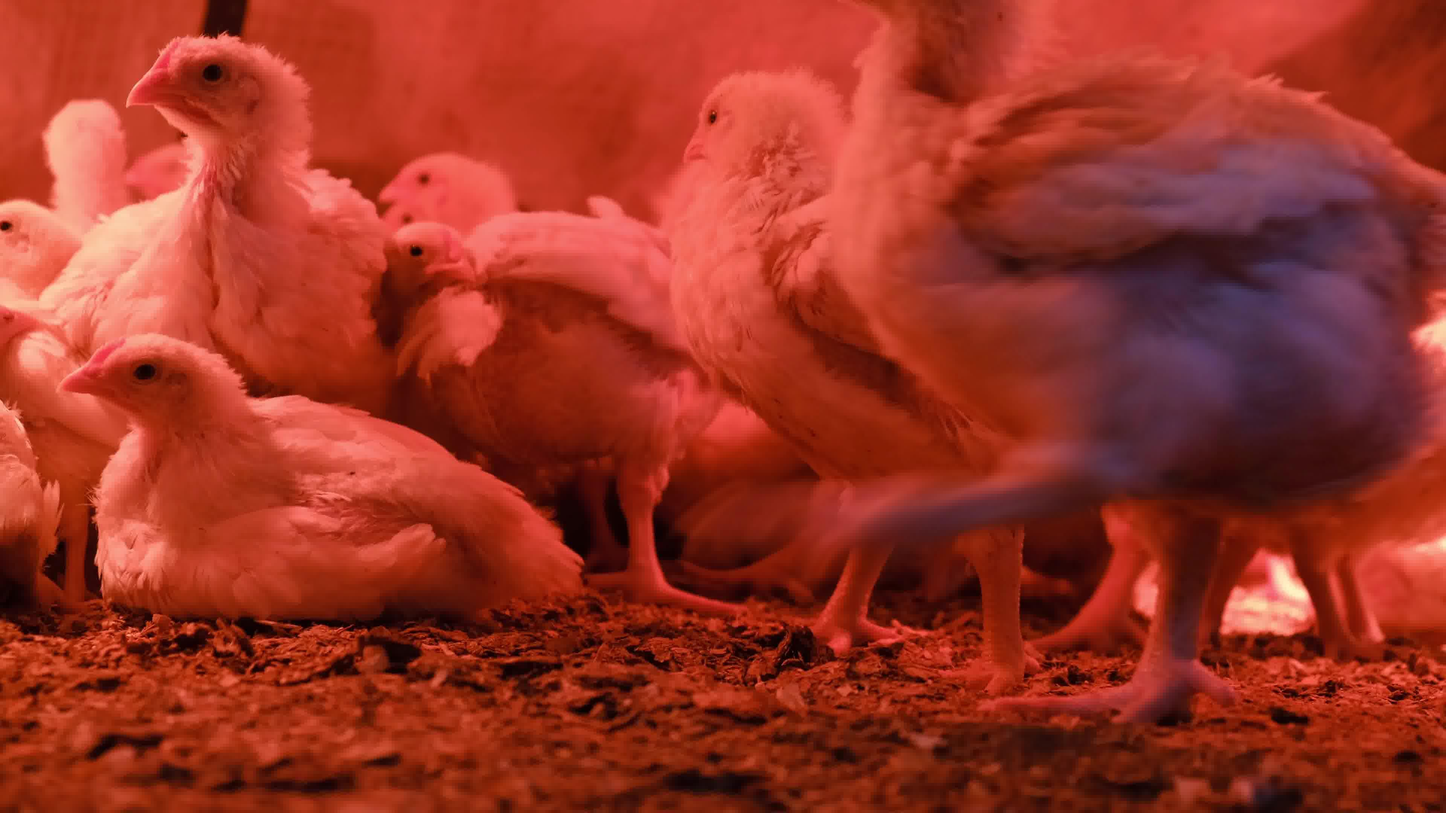AbNormal: (60, 311, 567, 662), (0, 237, 92, 646)
Normal: (795, 0, 1442, 813), (644, 73, 1071, 683), (441, 139, 766, 625), (96, 28, 463, 348), (358, 128, 540, 280), (377, 209, 510, 375), (0, 56, 136, 199), (85, 109, 209, 230), (0, 175, 119, 294)
